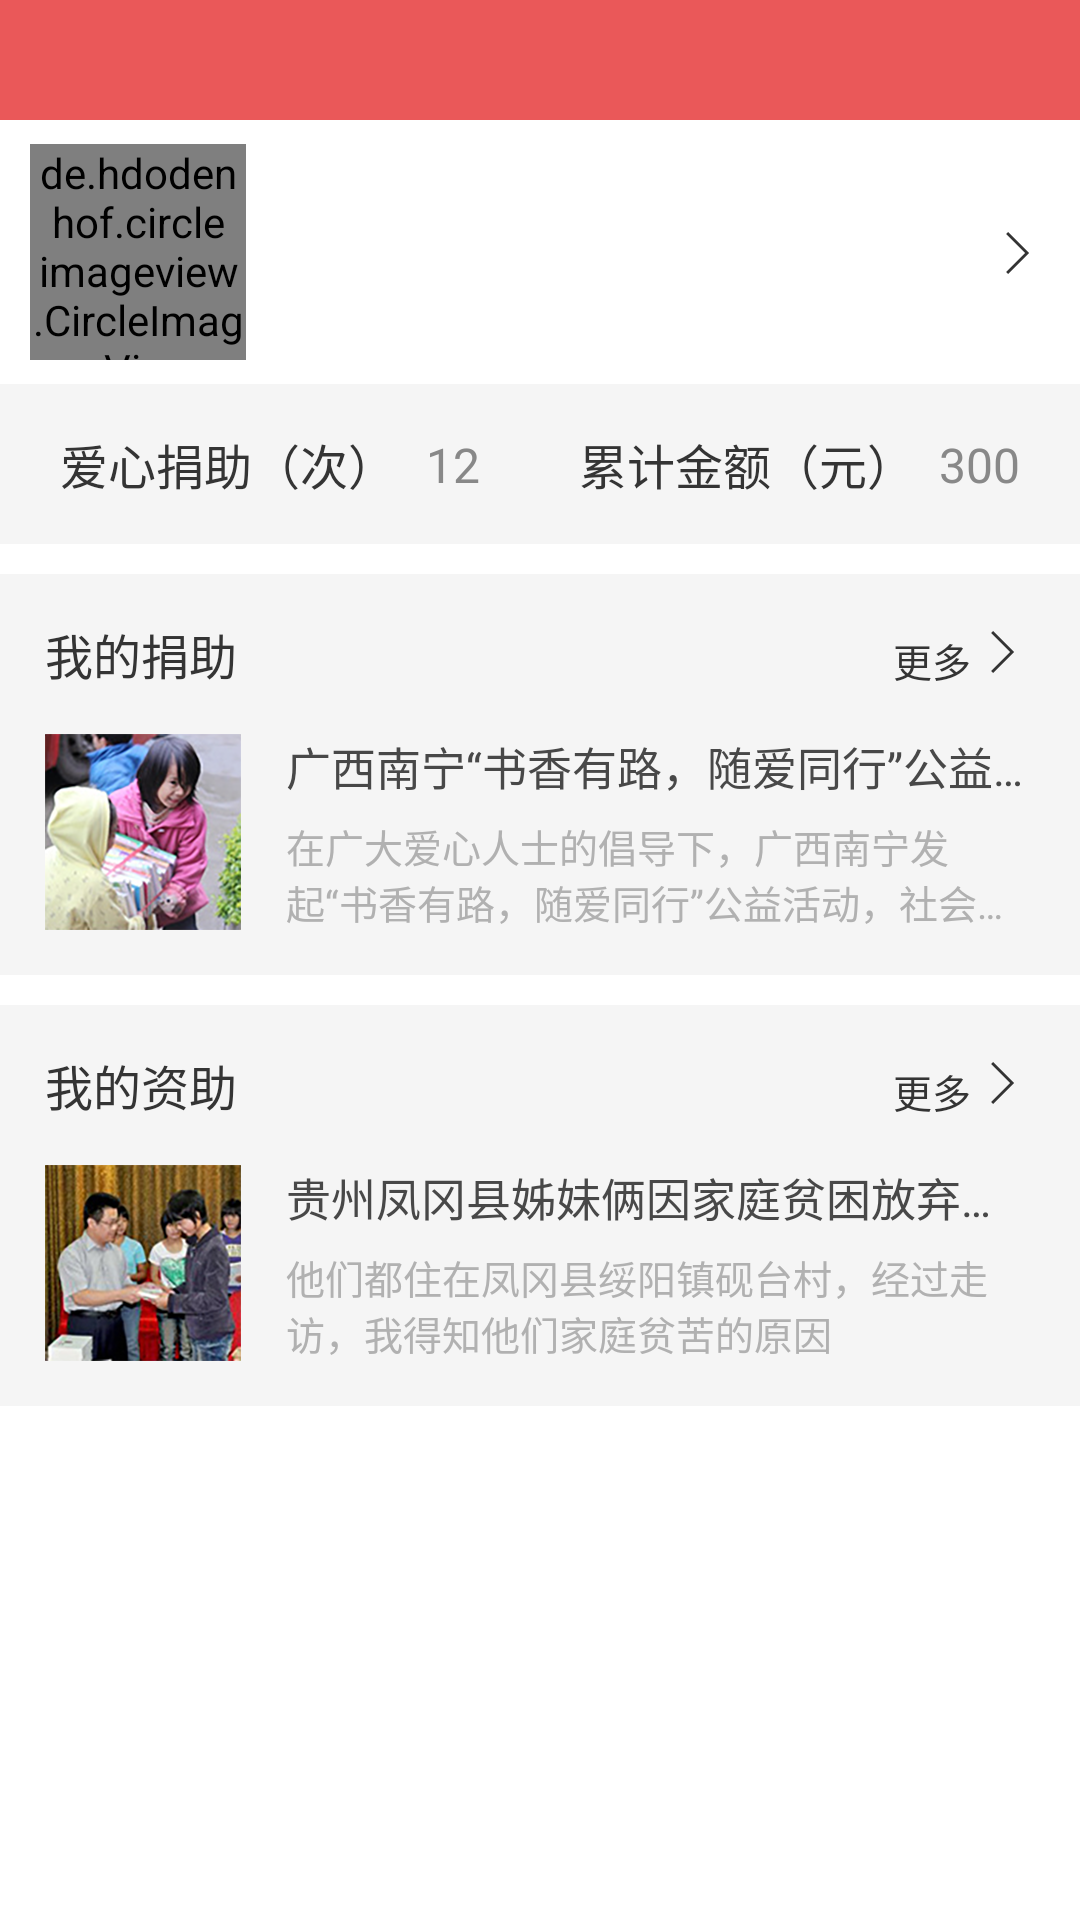

Icon click points for this 1080x1920 phone screenshot, format [x,y]:
next: [1017,253], [1002,652], [1002,1083]
